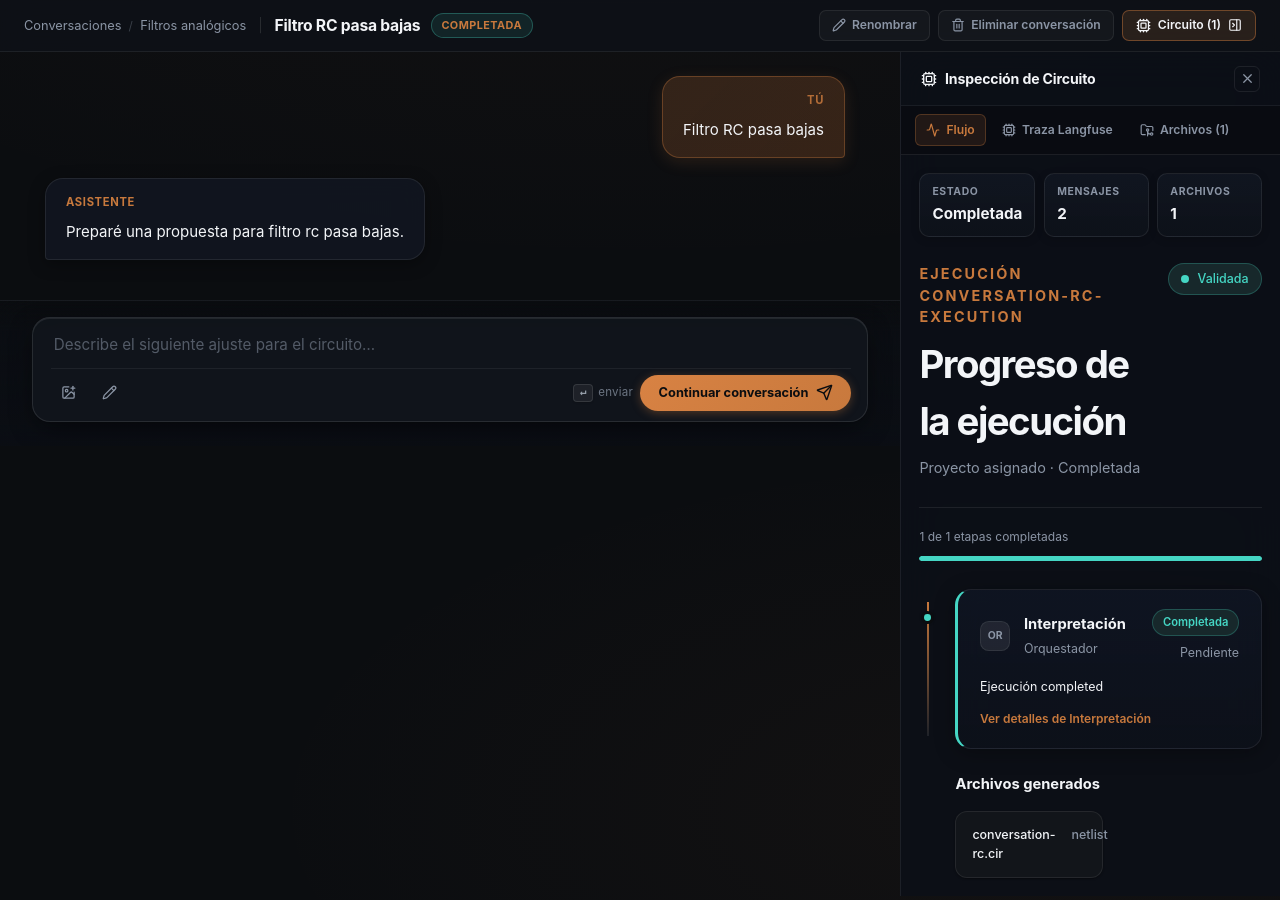
it: ConversationScreen › validates empty continuation text
Check: the heading "Filtro RC pasa bajas" is shown, box x1=274 y1=14 x2=420 y2=37
Click the button "Continuar conversación" at (746, 393), box x1=640 y1=375 x2=851 y2=411
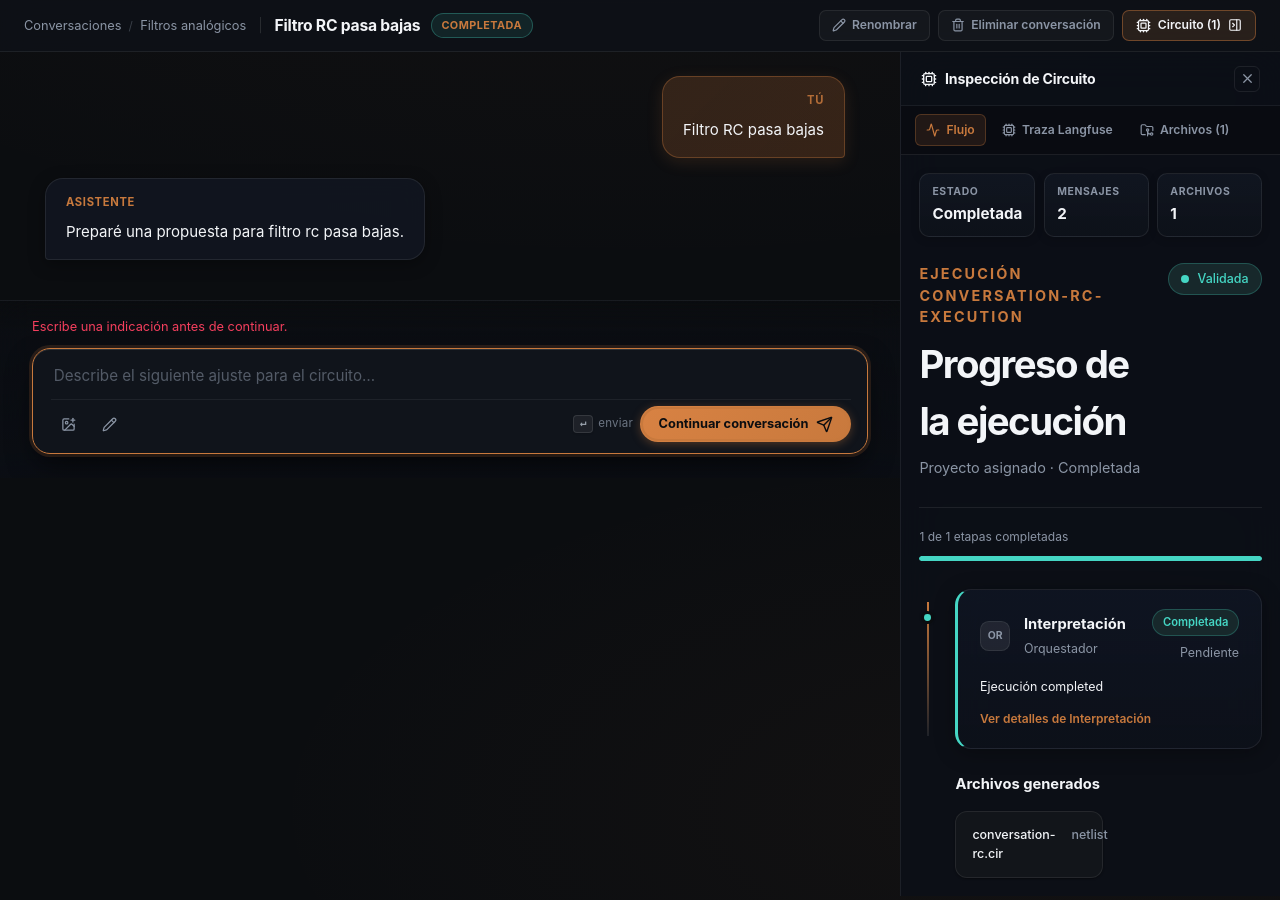
Check: the message shows "Escribe una indicación", box x1=32 y1=319 x2=287 y2=334
